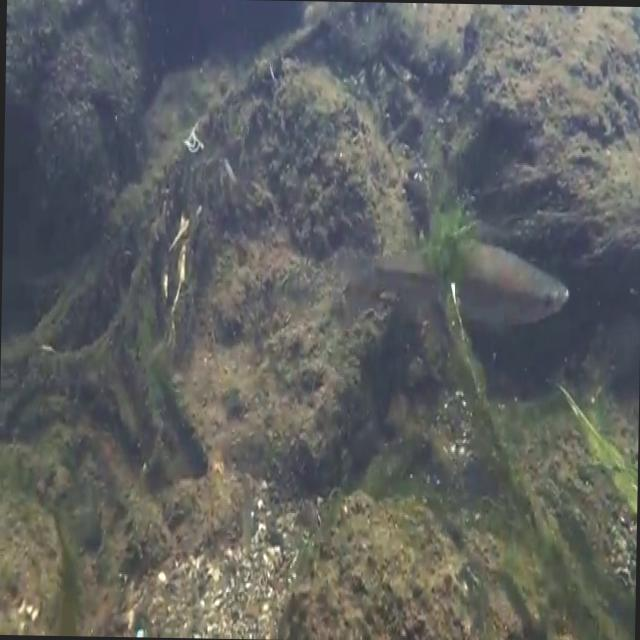Cakil Baligi: (342, 202, 574, 349)
